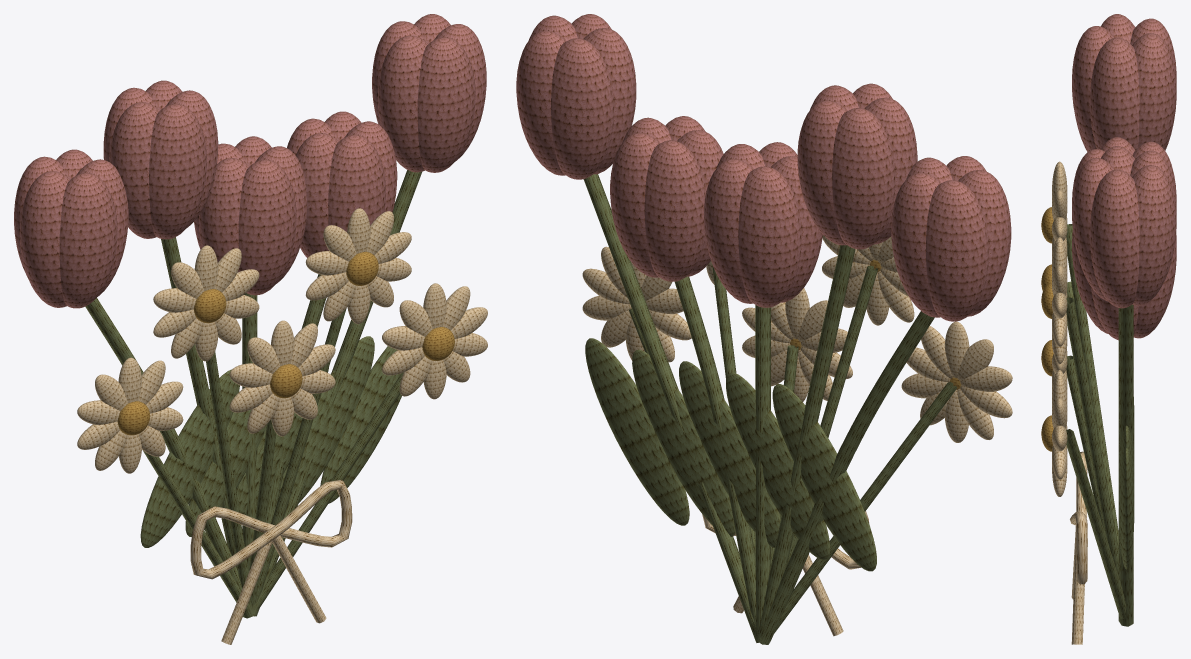
Rendered from collection-0.glb.
The picture shows the model from 3 angles, left to right: view 1: azimuth 30°, elevation 25°; view 2: azimuth 150°, elevation 25°; view 3: azimuth 270°, elevation 25°; orthographic projection. The views are drawn at different scales.
Bounding box in the file's own units: 2.42 × 2.73 × 0.6058.
Materials: 10 (10 with a texture image).
